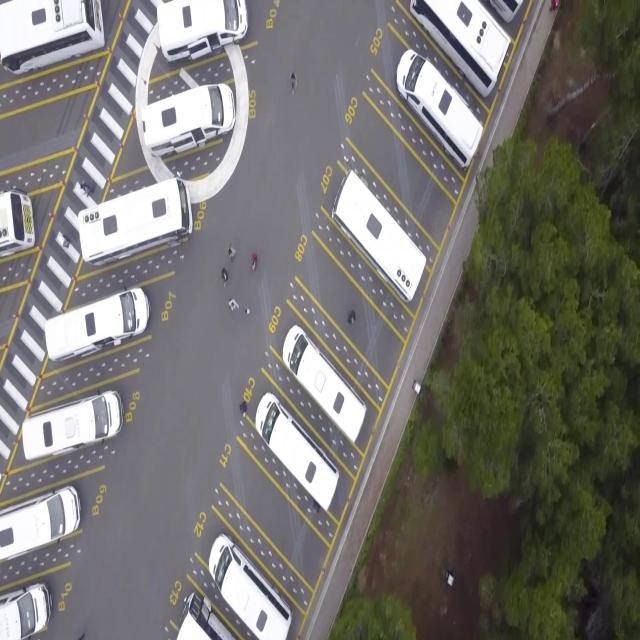people: (80, 180, 92, 197), (290, 71, 298, 95), (348, 306, 357, 327), (228, 298, 240, 312), (251, 252, 258, 272), (221, 268, 228, 287), (228, 244, 236, 260), (240, 402, 247, 416), (245, 305, 250, 316)
